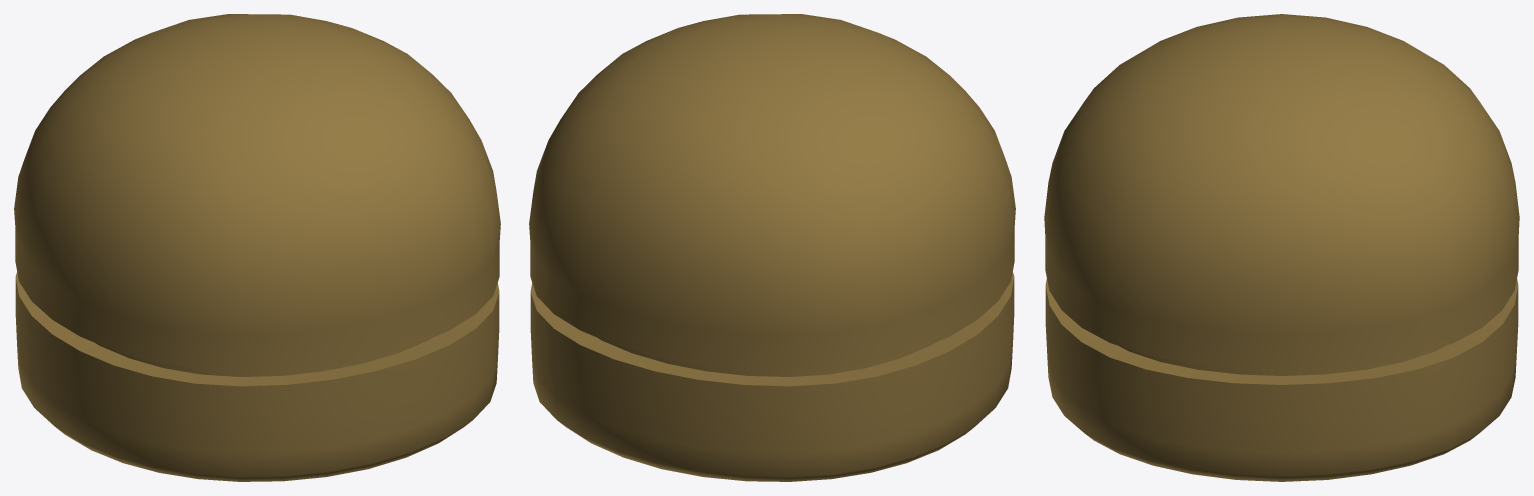
File: Burger Bun.fbx
The picture shows the model from 3 angles, left to right: view 1: azimuth 30°, elevation 25°; view 2: azimuth 150°, elevation 25°; view 3: azimuth 270°, elevation 25°; orthographic projection.
Parts seen in each view (by area): view 1: Burger_Bun; view 2: Burger_Bun; view 3: Burger_Bun.
Part boxes in pixels (box(x1,y1,x2,y2)): Burger_Bun: box(14, 14, 500, 481); Burger_Bun: box(529, 14, 1015, 481); Burger_Bun: box(1044, 14, 1519, 481).
Bounding box in the file's own units: 19.25 × 15.46 × 19.25.
